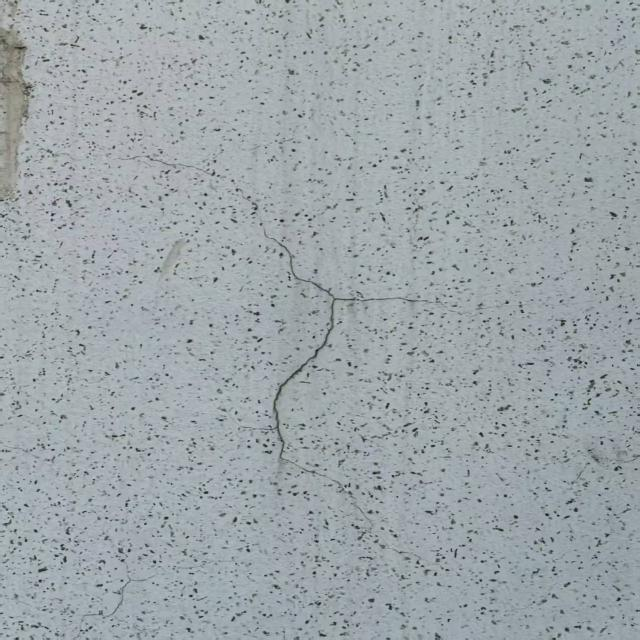crack: (94, 144, 610, 578), (69, 534, 249, 638)
